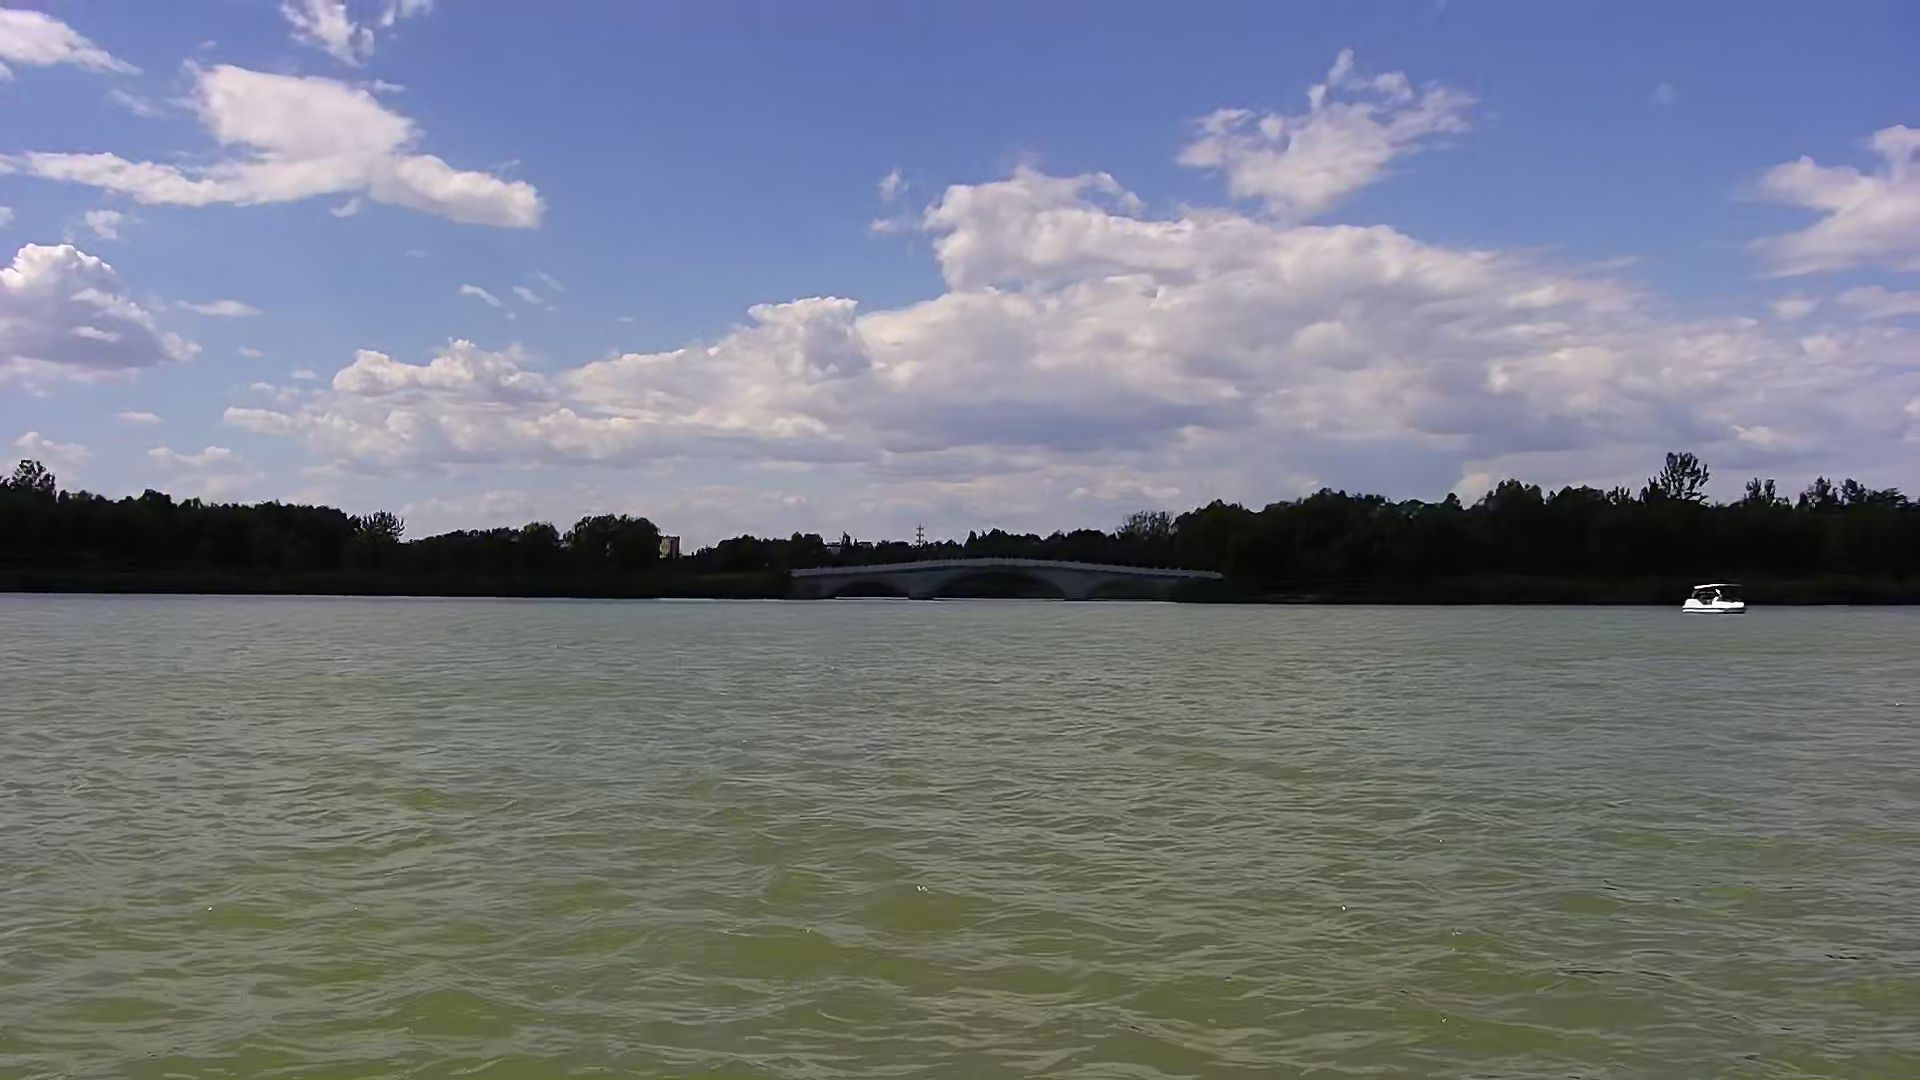boat: (1675, 578, 1755, 622)
bridge: (779, 550, 1232, 607)
